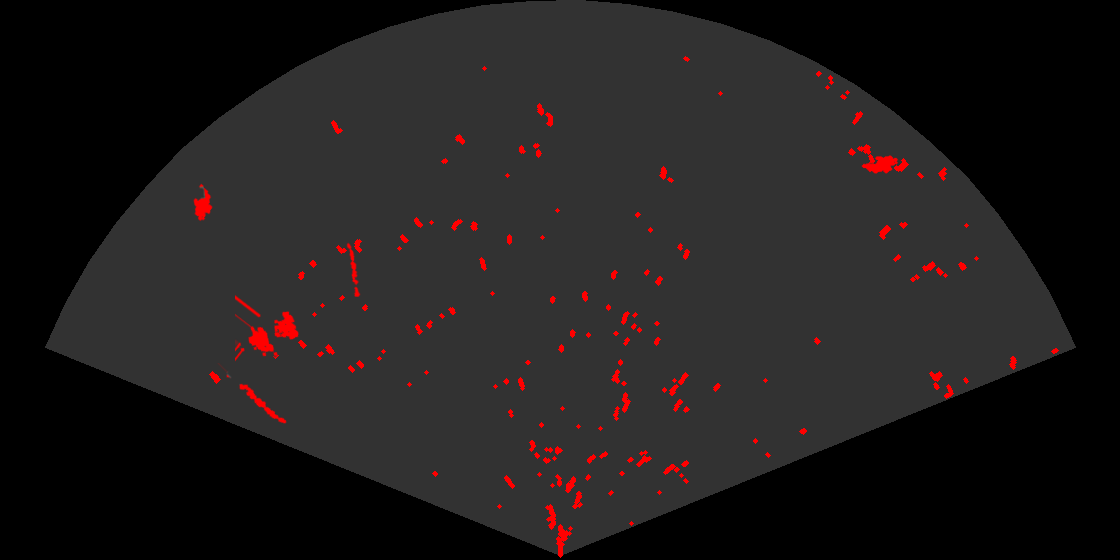AUV: (192, 182, 214, 223), (860, 154, 900, 175)
cage: (235, 294, 300, 363)
chain: (216, 363, 288, 425), (345, 241, 362, 297)
